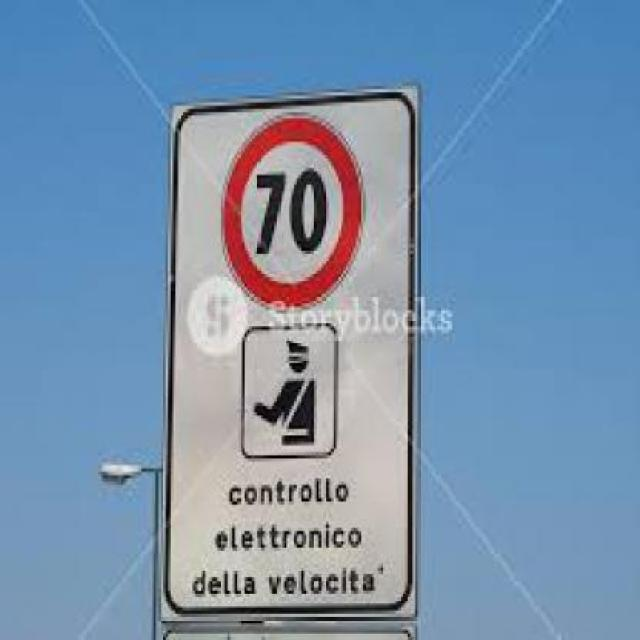forb_speed_over_70: (221, 116, 364, 312)
